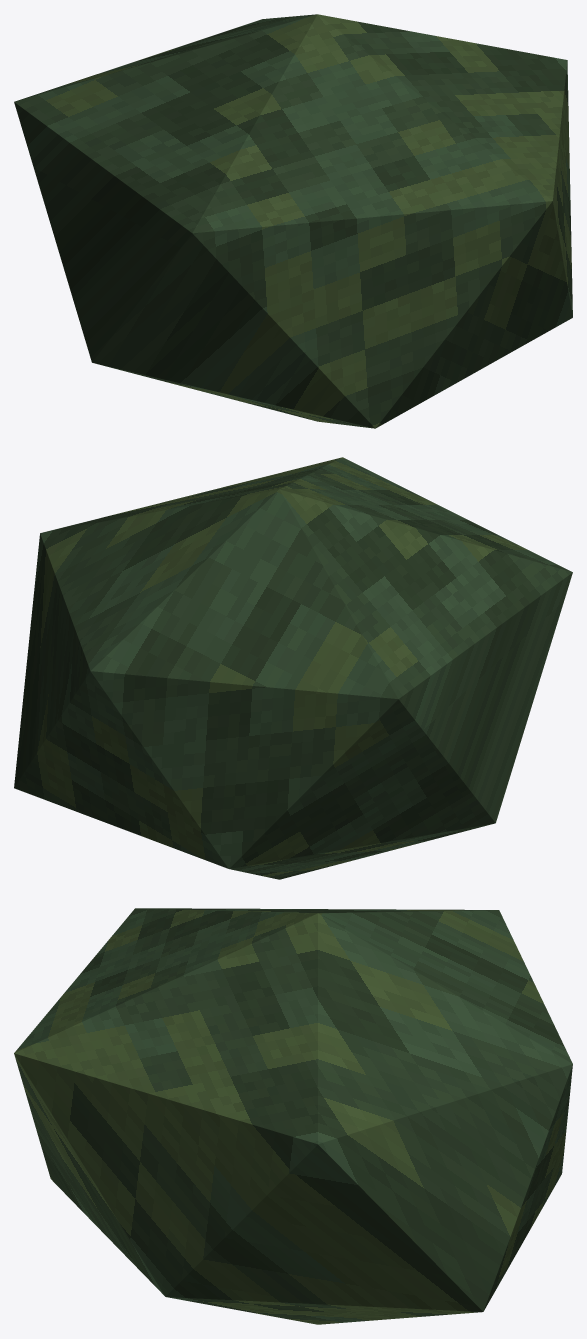
The model's file is ENV_C_Bush.fbx.
3 views of the same model, one above another, from view 1: azimuth 30°, elevation 25°; view 2: azimuth 150°, elevation 25°; view 3: azimuth 270°, elevation 25° (orthographic). The views are drawn at different scales.
Visible parts, largest first — view 1: ENV_C_Bush; view 2: ENV_C_Bush; view 3: ENV_C_Bush.
Part boxes in pixels (left/top/right/bottom): ENV_C_Bush: left=14, top=14, right=572, bottom=428; ENV_C_Bush: left=14, top=457, right=572, bottom=879; ENV_C_Bush: left=14, top=908, right=572, bottom=1324.
Bounding box in the file's own units: 151 × 123 × 152.
Materials: 1 (1 with a texture image).
